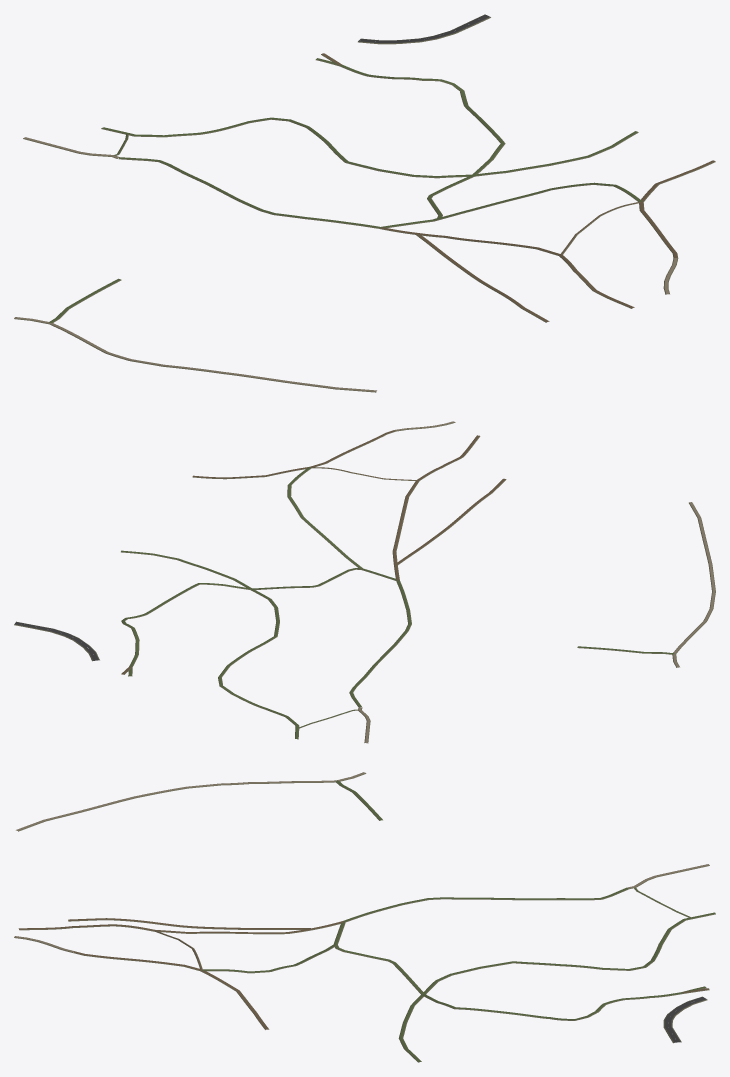
3 renders of one model, top to bottom at view 1: azimuth 30°, elevation 25°; view 2: azimuth 150°, elevation 25°; view 3: azimuth 270°, elevation 25°, orthographic. The views are drawn at different scales.
Parts seen in each view (by area): view 1: roads; view 2: roads; view 3: roads.
Boxes of the visible parts, x1,y1,x2,y2 form: roads: (14, 14, 715, 392); roads: (14, 421, 715, 743); roads: (14, 772, 715, 1062).
Size of the model in its own units: 813 by 82.56 by 817.
